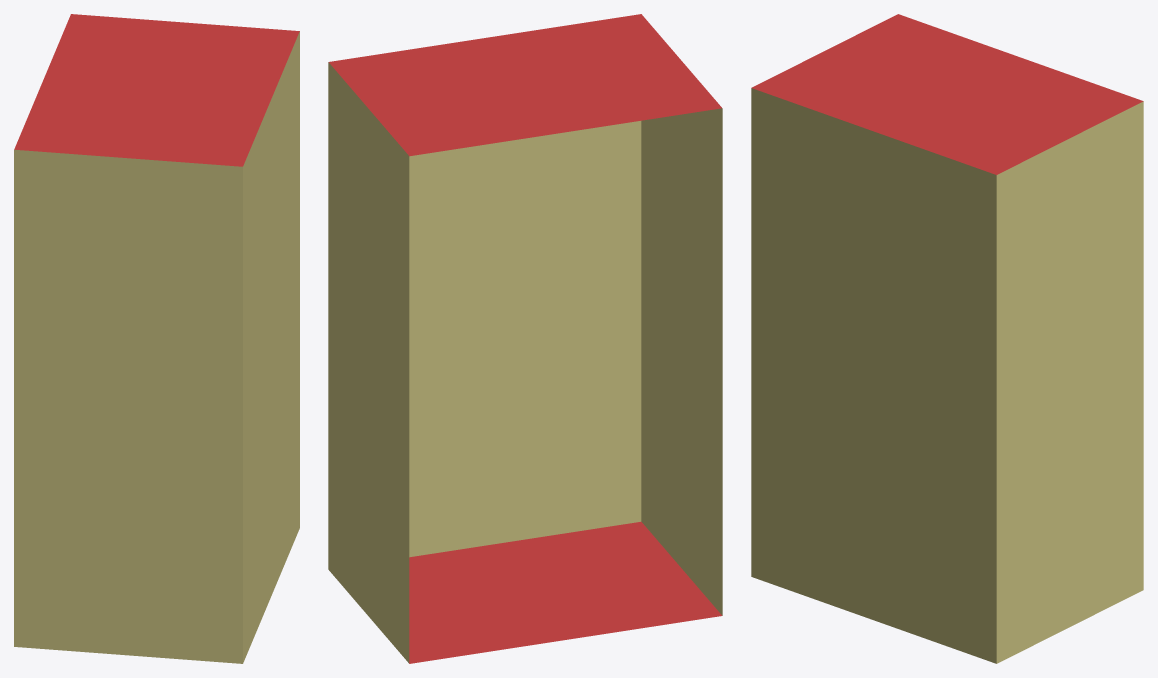
3 views of the same model, side by side, from view 1: azimuth 30°, elevation 25°; view 2: azimuth 150°, elevation 25°; view 3: azimuth 270°, elevation 25° (orthographic). The views are drawn at different scales.
Visible parts, largest first — view 1: group_4, group_3; view 2: group_4, group_3, group_5; view 3: group_4, group_3.
Part boxes in pixels (box(x1,y1,x2,y2)): group_4: box(14, 31, 299, 663); group_3: box(14, 14, 299, 166); group_4: box(328, 62, 722, 663); group_3: box(329, 14, 721, 156); group_5: box(409, 521, 721, 663); group_4: box(751, 88, 1143, 663); group_3: box(751, 14, 1143, 174).
Bounding box in the file's own units: 5.99 × 6.16 × 8.47.
